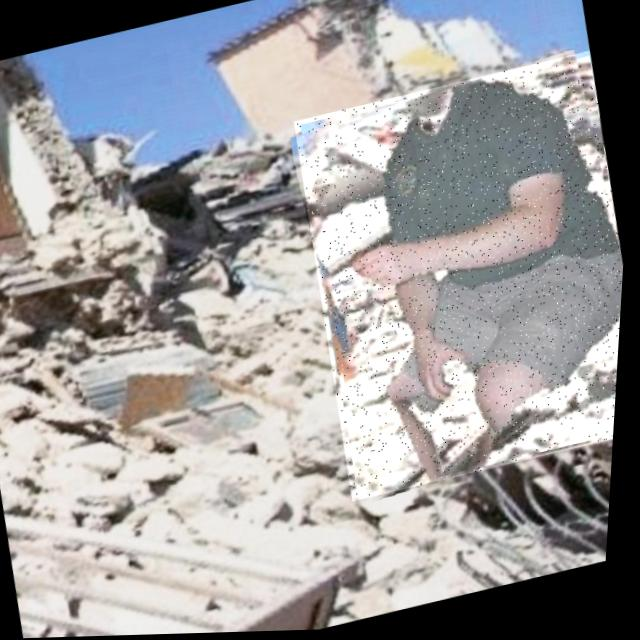Person in Rubble: (277, 52, 637, 505)
